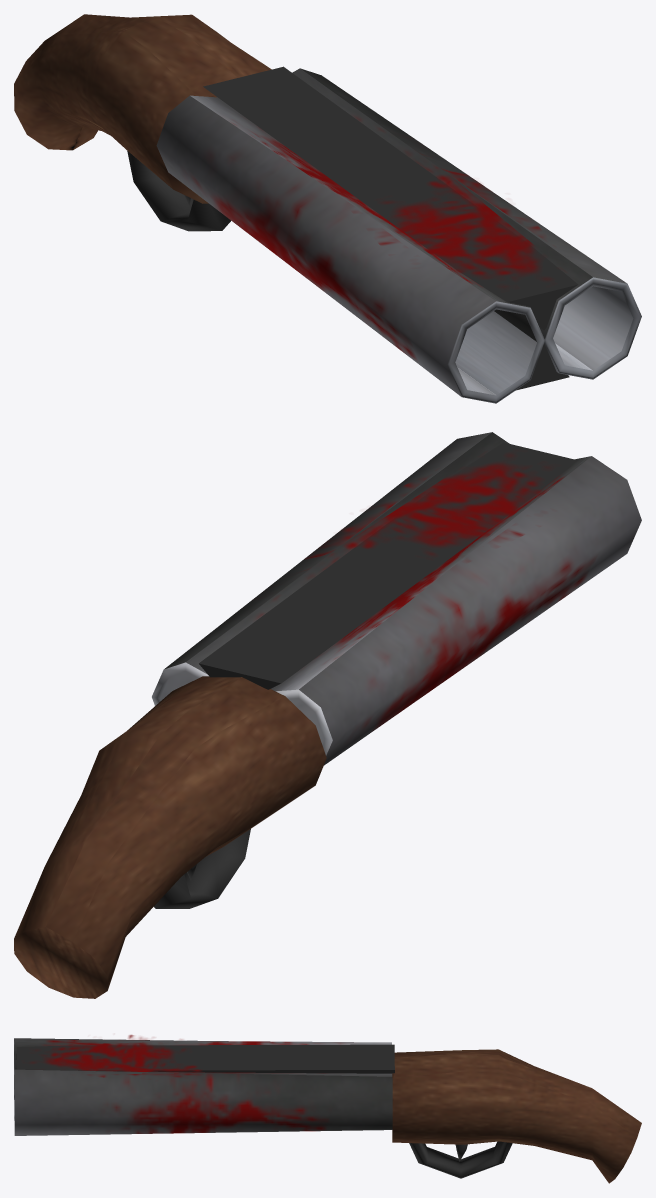
File: shotgunasset.glb
The picture shows the model from 3 angles, top to bottom: view 1: azimuth 30°, elevation 25°; view 2: azimuth 150°, elevation 25°; view 3: azimuth 270°, elevation 25°; orthographic projection. The views are drawn at different scales.
Visible parts, largest first — view 1: SHOTGUN; view 2: SHOTGUN; view 3: SHOTGUN.
Part boxes in pixels (x1,y1,x2,y2): SHOTGUN: (14, 14, 641, 403); SHOTGUN: (14, 432, 641, 998); SHOTGUN: (14, 1035, 641, 1183).
Bounding box in the file's own units: 3.99 × 3.91 × 17.46.
Materials: 4 (3 with a texture image).
